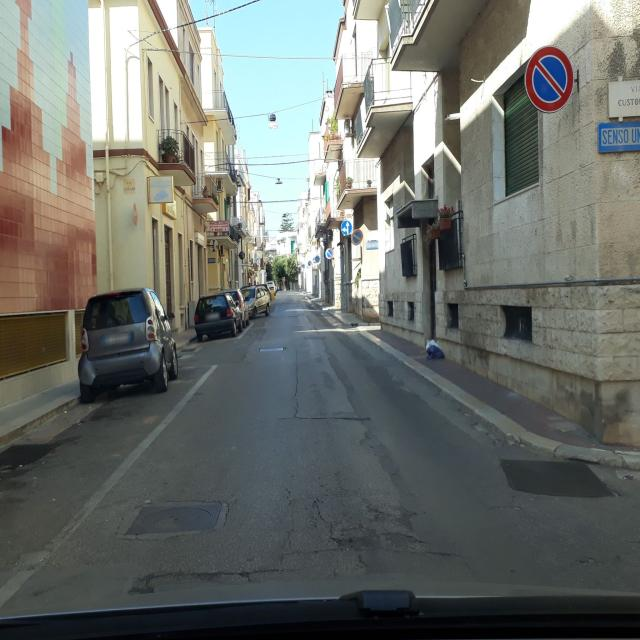forb_stopping: (523, 44, 575, 114), (351, 229, 363, 244), (327, 249, 334, 260)
